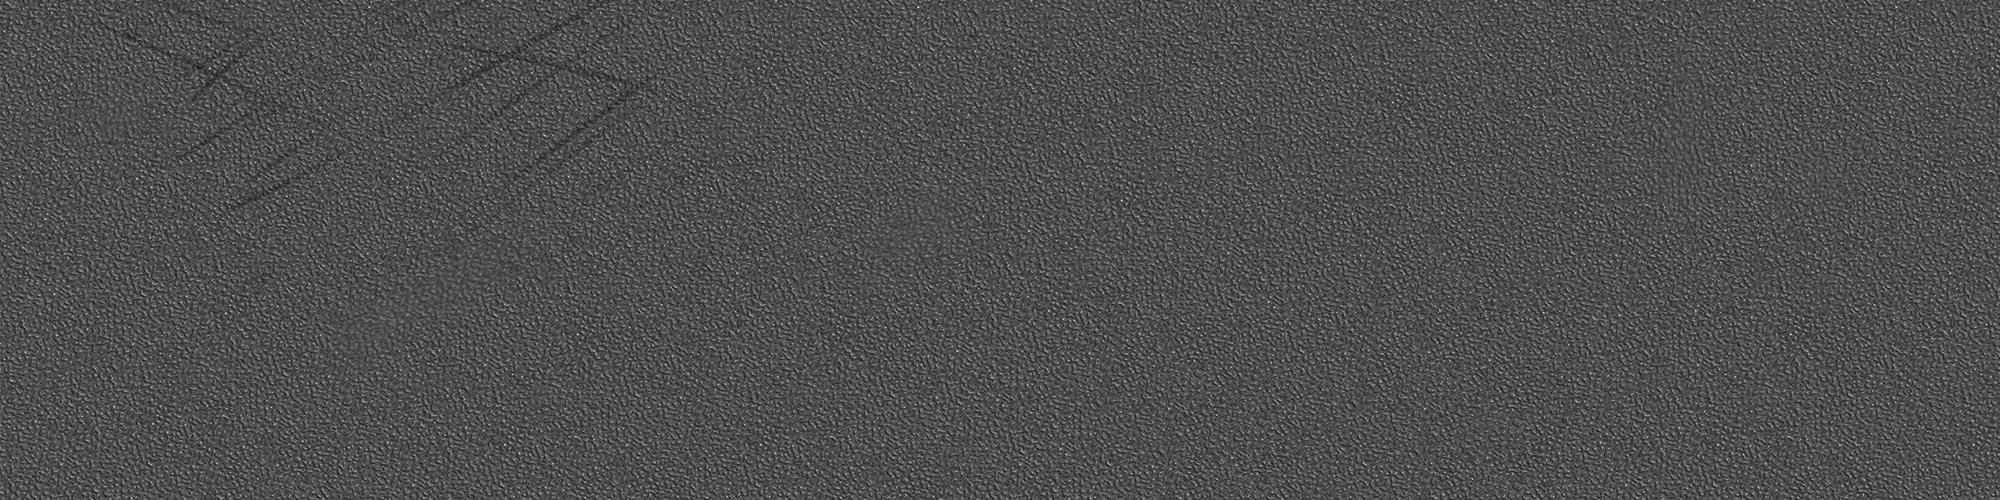Scratches: (91, 8, 710, 232), (334, 233, 608, 337), (217, 270, 276, 300)
